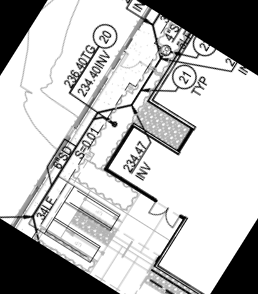door: (118, 49, 143, 75)
double door: (145, 197, 183, 230)
